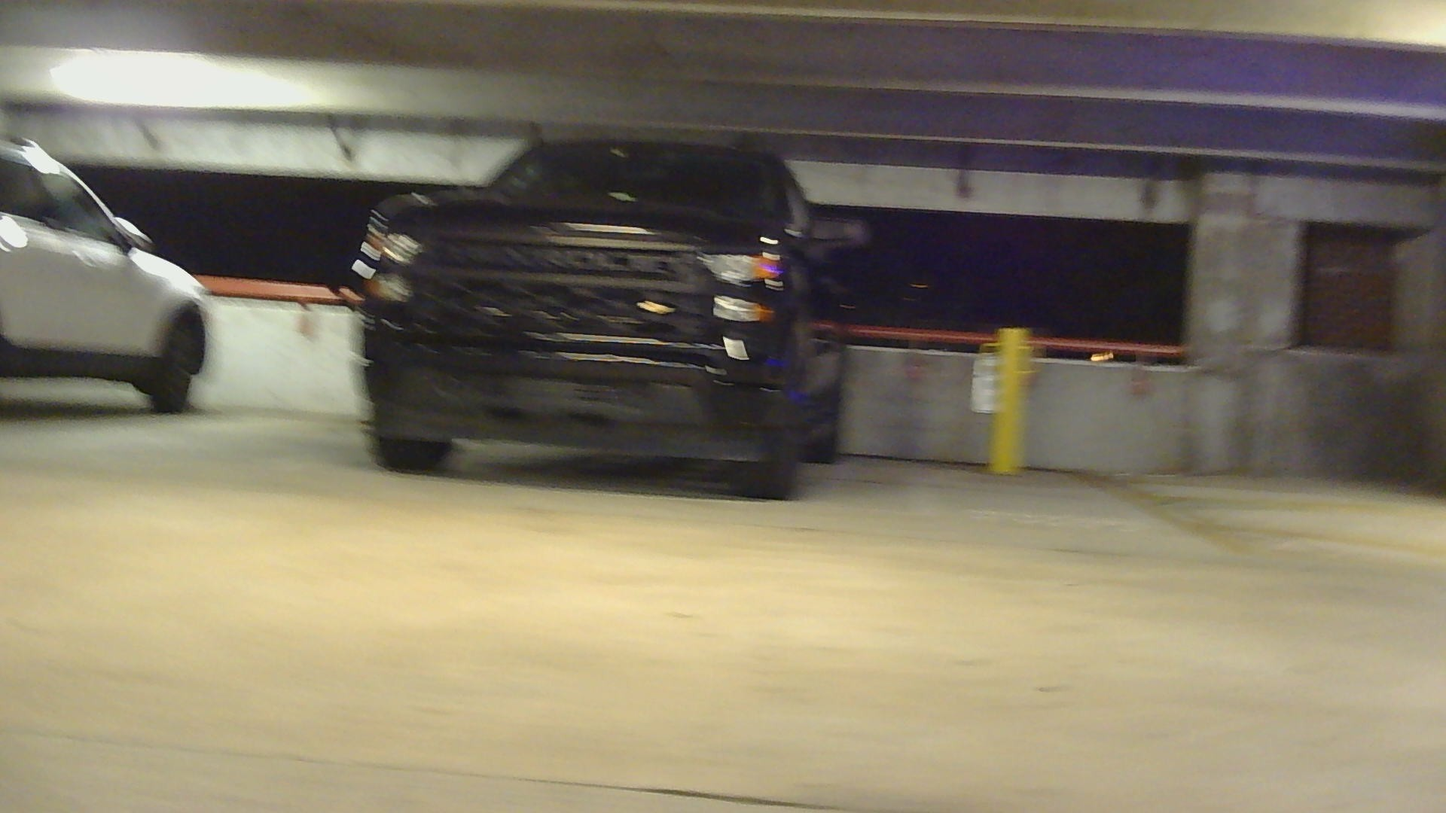empty_spot: (28, 371, 381, 495)
occupied_spot: (341, 121, 920, 509), (5, 134, 215, 448)
